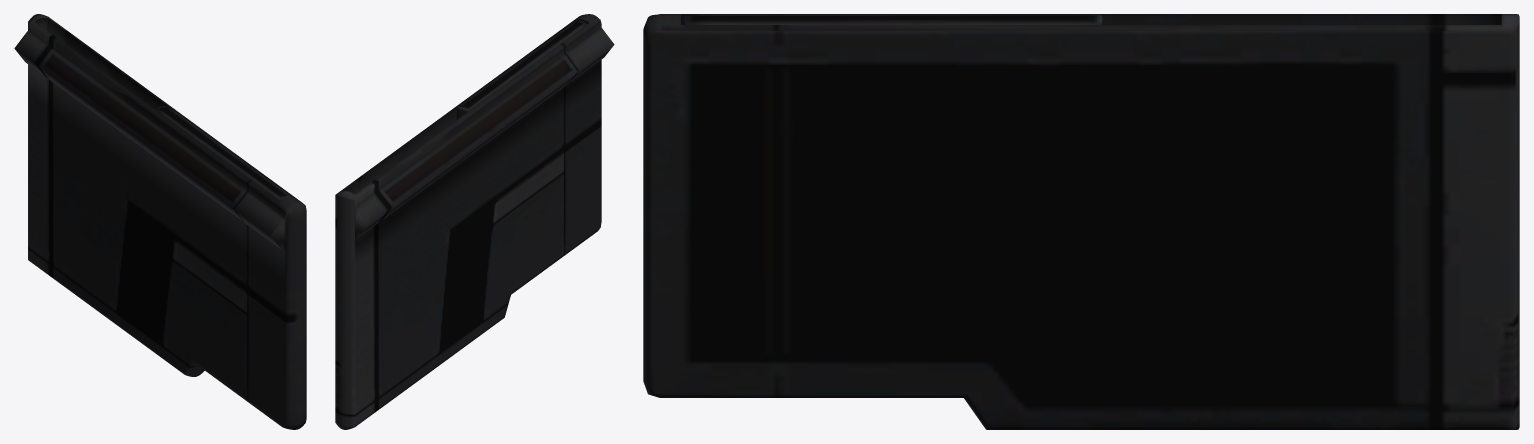
Rendered from GUI_Terminal02_02_STATIC.FBX.
3 renders of one model, left to right at view 1: azimuth 30°, elevation 25°; view 2: azimuth 150°, elevation 25°; view 3: azimuth 270°, elevation 25°, orthographic. The views are drawn at different scales.
Parts seen in each view (by area): view 1: GUI_Terminal02_02_STATIC; view 2: GUI_Terminal02_02_STATIC; view 3: GUI_Terminal02_02_STATIC.
Boxes of the visible parts, <box> form: GUI_Terminal02_02_STATIC: <box>14,14,306,429</box>; GUI_Terminal02_02_STATIC: <box>335,14,614,429</box>; GUI_Terminal02_02_STATIC: <box>643,14,1519,429</box>.
Bounding box in the file's own units: 0.3635 × 2.47 × 4.78.
